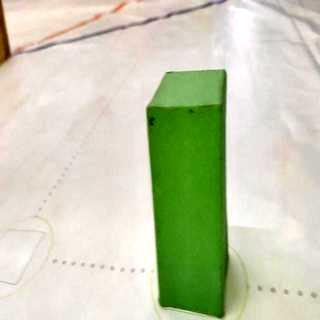greenbox: (146, 69, 228, 320)
